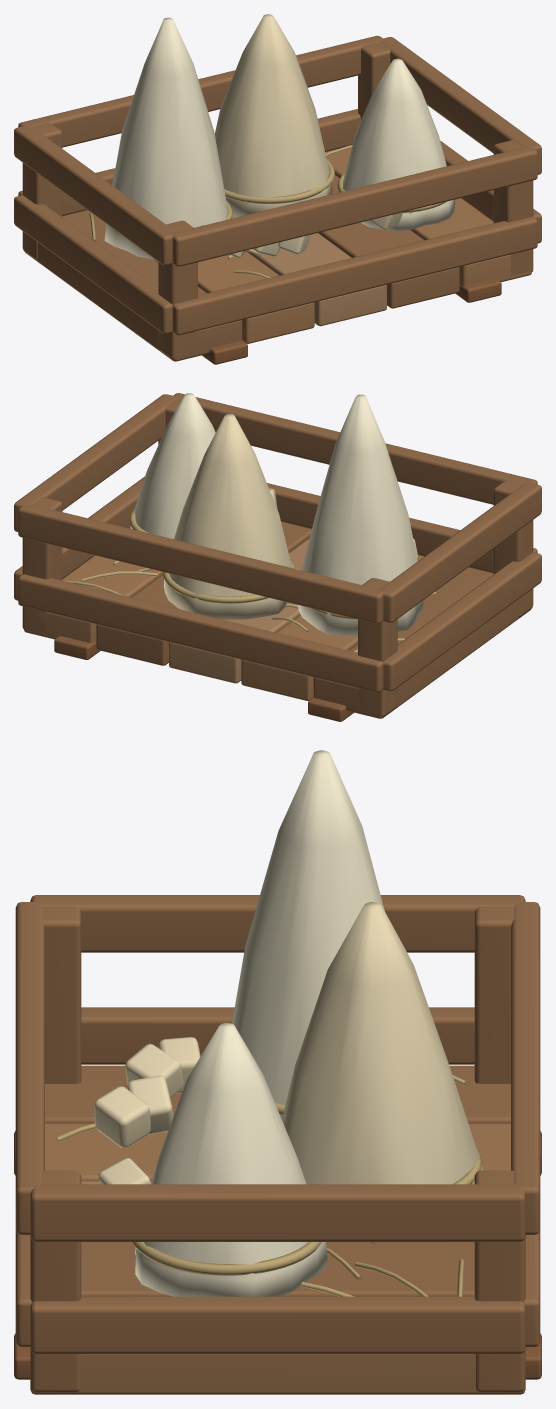
File: sugar.glb
The picture shows the model from 3 angles, top to bottom: view 1: azimuth 30°, elevation 25°; view 2: azimuth 150°, elevation 25°; view 3: azimuth 270°, elevation 25°; orthographic projection. The views are drawn at different scales.
Visible parts, largest first — view 1: Cargo_sugar; view 2: Cargo_sugar; view 3: Cargo_sugar.
Part boxes in pixels (box(x1,y1,x2,y2)): Cargo_sugar: box(14, 14, 541, 364); Cargo_sugar: box(14, 393, 541, 721); Cargo_sugar: box(14, 750, 541, 1394).
Bounding box in the file's own units: 0.985 × 0.6595 × 0.725.
